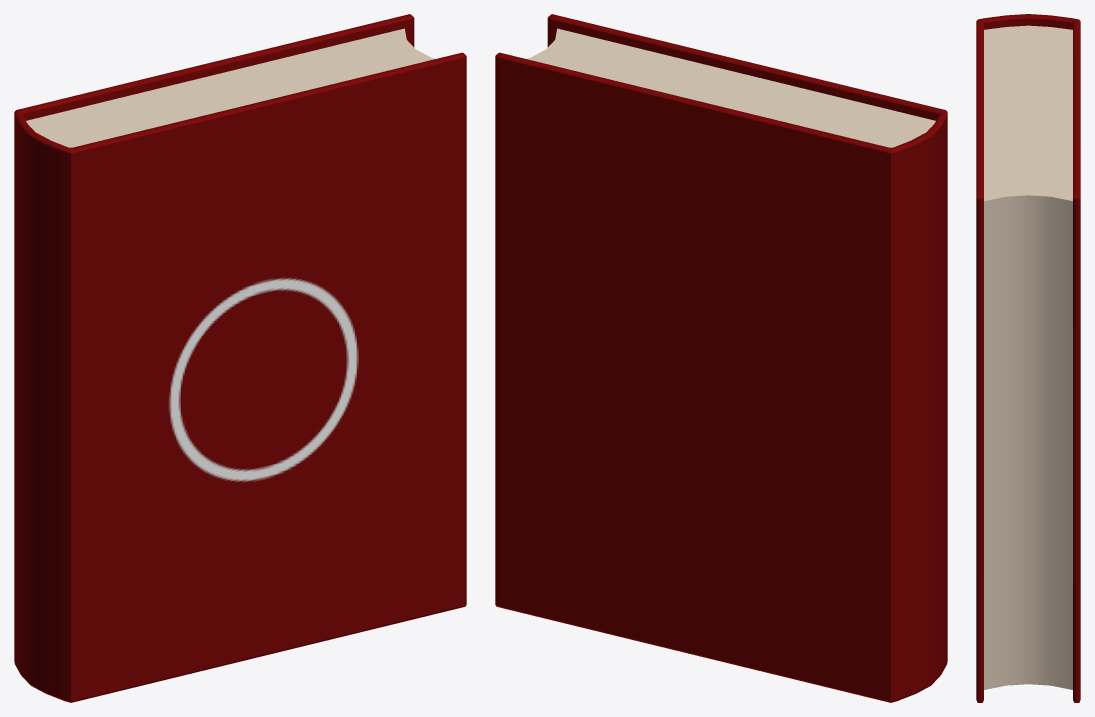
File: book4.glb
3 renders of one model, left to right at view 1: azimuth 30°, elevation 25°; view 2: azimuth 150°, elevation 25°; view 3: azimuth 270°, elevation 25°, orthographic. The views are drawn at different scales.
Visible parts, largest first — view 1: book4; view 2: book4; view 3: book4.
Part boxes in pixels (x1=…): book4: x1=14, y1=14, x2=466, y2=702; book4: x1=495, y1=14, x2=947, y2=702; book4: x1=976, y1=14, x2=1080, y2=702.
Size of the model in its own units: 0.3378 by 0.4353 by 0.0813.
Materials: 1 (1 with a texture image).
